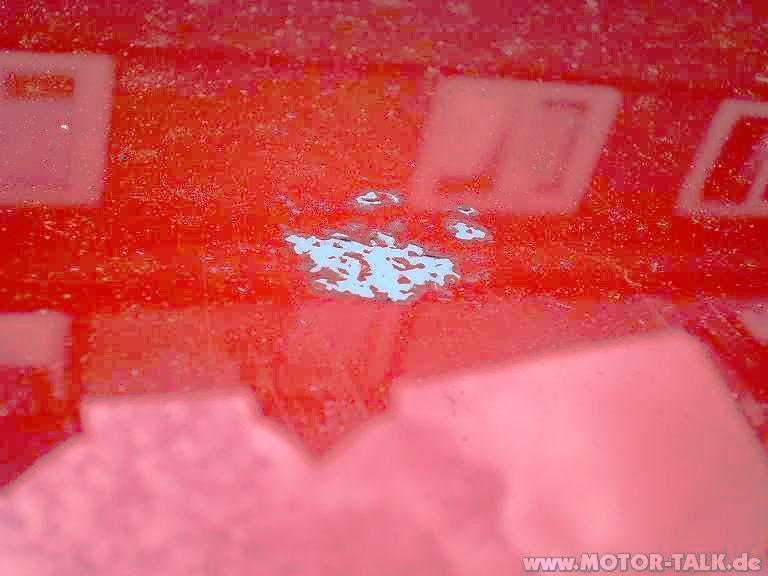Bird Poop: (285, 231, 460, 302), (448, 219, 487, 239), (355, 191, 399, 207), (456, 205, 478, 215)
